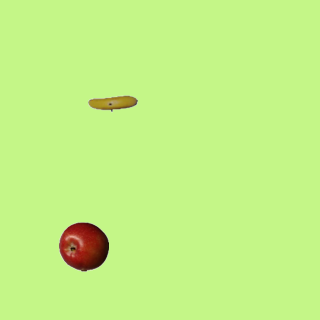Apple Braeburn: (58, 221, 108, 271)
Banana: (87, 78, 137, 128)
